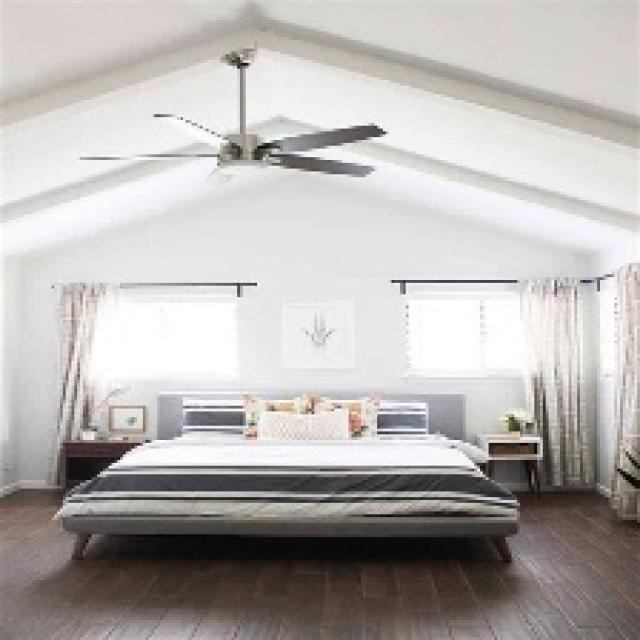Bed: (51, 391, 520, 563)
